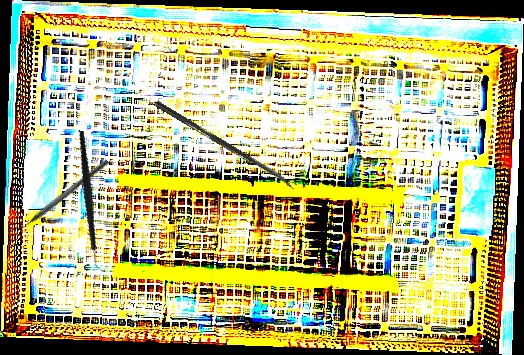Chopper: (46, 130, 138, 273), (11, 153, 110, 236)
Surgical Spoon: (153, 100, 298, 191)
